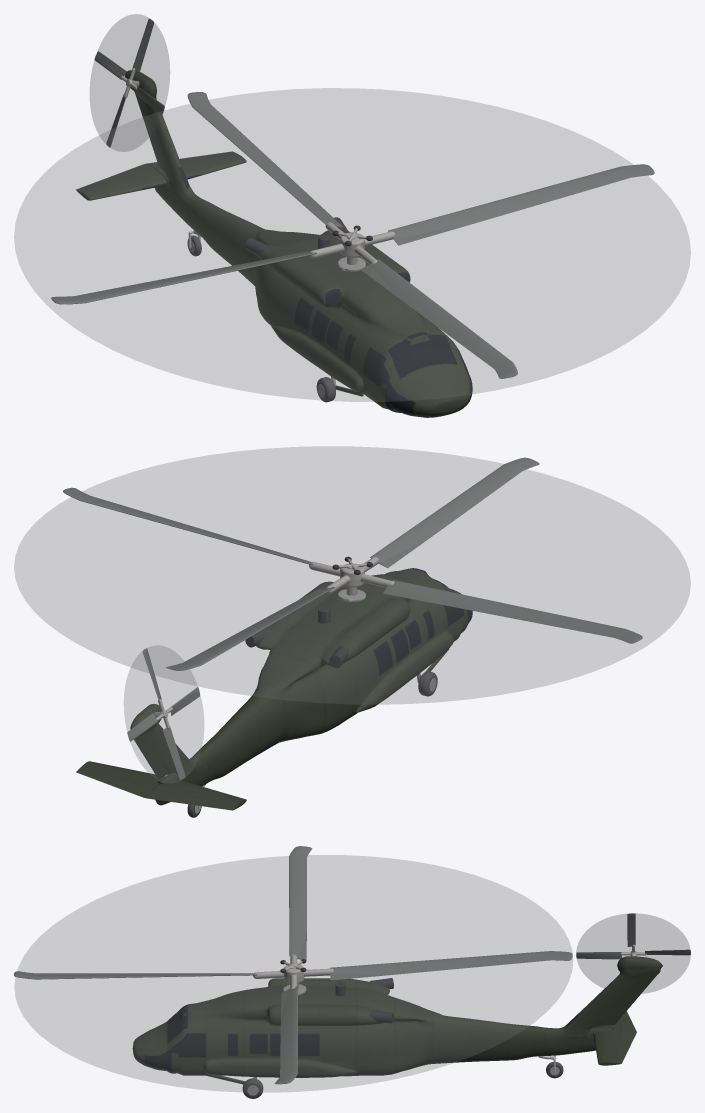
The picture shows the model from 3 angles, top to bottom: view 1: azimuth 30°, elevation 25°; view 2: azimuth 150°, elevation 25°; view 3: azimuth 270°, elevation 25°; orthographic projection. The views are drawn at different scales.
Parts seen in each view (by area): view 1: fsim:disc:0:300, airframe, fsim:blades:0:300, fsim:disc:1:300, fsim:elevator (×2), fsim:propeller:0, fsim:blades:1:300; view 2: fsim:disc:0:300, airframe, fsim:blades:0:300, fsim:disc:1:300, fsim:elevator (×2), fsim:propeller:0, fsim:blades:1:300; view 3: fsim:disc:0:300, airframe, fsim:blades:0:300, fsim:disc:1:300, fsim:elevator, fsim:propeller:0, fsim:blades:1:300.
Boxes of the visible parts, left/top/right/bottom form: fsim:disc:0:300: left=14, top=88, right=690, bottom=401; airframe: left=125, top=70, right=472, bottom=417; fsim:blades:0:300: left=51, top=92, right=654, bottom=378; fsim:disc:1:300: left=90, top=14, right=169, bottom=151; fsim:elevator (×2): left=76, top=151, right=246, bottom=200; fsim:propeller:0: left=309, top=222, right=395, bottom=263; fsim:blades:1:300: left=94, top=18, right=164, bottom=147; fsim:disc:0:300: left=14, top=446, right=690, bottom=704; airframe: left=130, top=568, right=472, bottom=805; fsim:blades:0:300: left=63, top=457, right=642, bottom=670; fsim:disc:1:300: left=124, top=645, right=203, bottom=782; fsim:elevator (×2): left=76, top=761, right=246, bottom=810; fsim:propeller:0: left=309, top=556, right=394, bottom=593; fsim:blades:1:300: left=127, top=648, right=199, bottom=780; fsim:disc:0:300: left=14, top=855, right=572, bottom=1092; airframe: left=132, top=953, right=662, bottom=1084; fsim:blades:0:300: left=14, top=846, right=572, bottom=1084; fsim:disc:1:300: left=576, top=913, right=690, bottom=993; fsim:elevator: left=593, top=1029, right=636, bottom=1065; fsim:propeller:0: left=253, top=954, right=333, bottom=989; fsim:blades:1:300: left=576, top=913, right=690, bottom=959.
Bounding box in the file's own units: 16.36 × 5.35 × 19.78.
11 materials, 1 textured.
